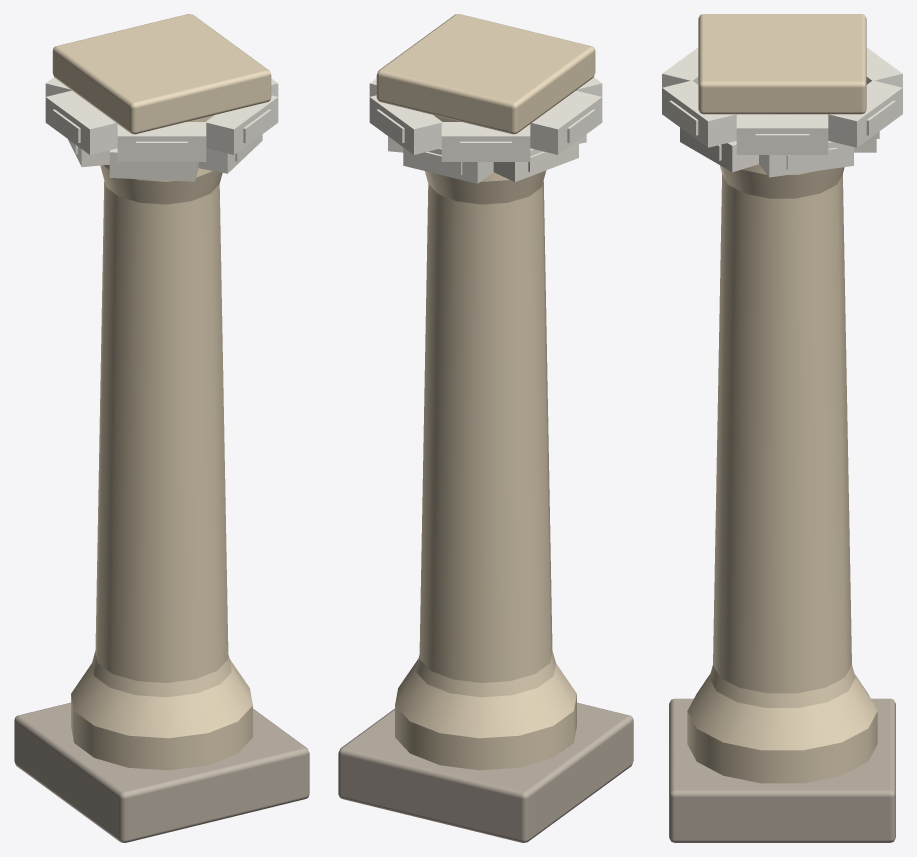
The model's file is prayer-hall-column-4fad9448.glb.
The picture shows the model from 3 angles, left to right: view 1: azimuth 30°, elevation 25°; view 2: azimuth 150°, elevation 25°; view 3: azimuth 270°, elevation 25°; orthographic projection. The views are drawn at different scales.
Parts seen in each view (by area): view 1: prayer-hall-column; view 2: prayer-hall-column; view 3: prayer-hall-column.
Boxes of the visible parts, bbox=[...] form: prayer-hall-column: bbox=[14, 14, 309, 842]; prayer-hall-column: bbox=[338, 14, 633, 842]; prayer-hall-column: bbox=[662, 14, 902, 842].
Bounding box in the file's own units: 0.63 × 2.26 × 0.6579.
